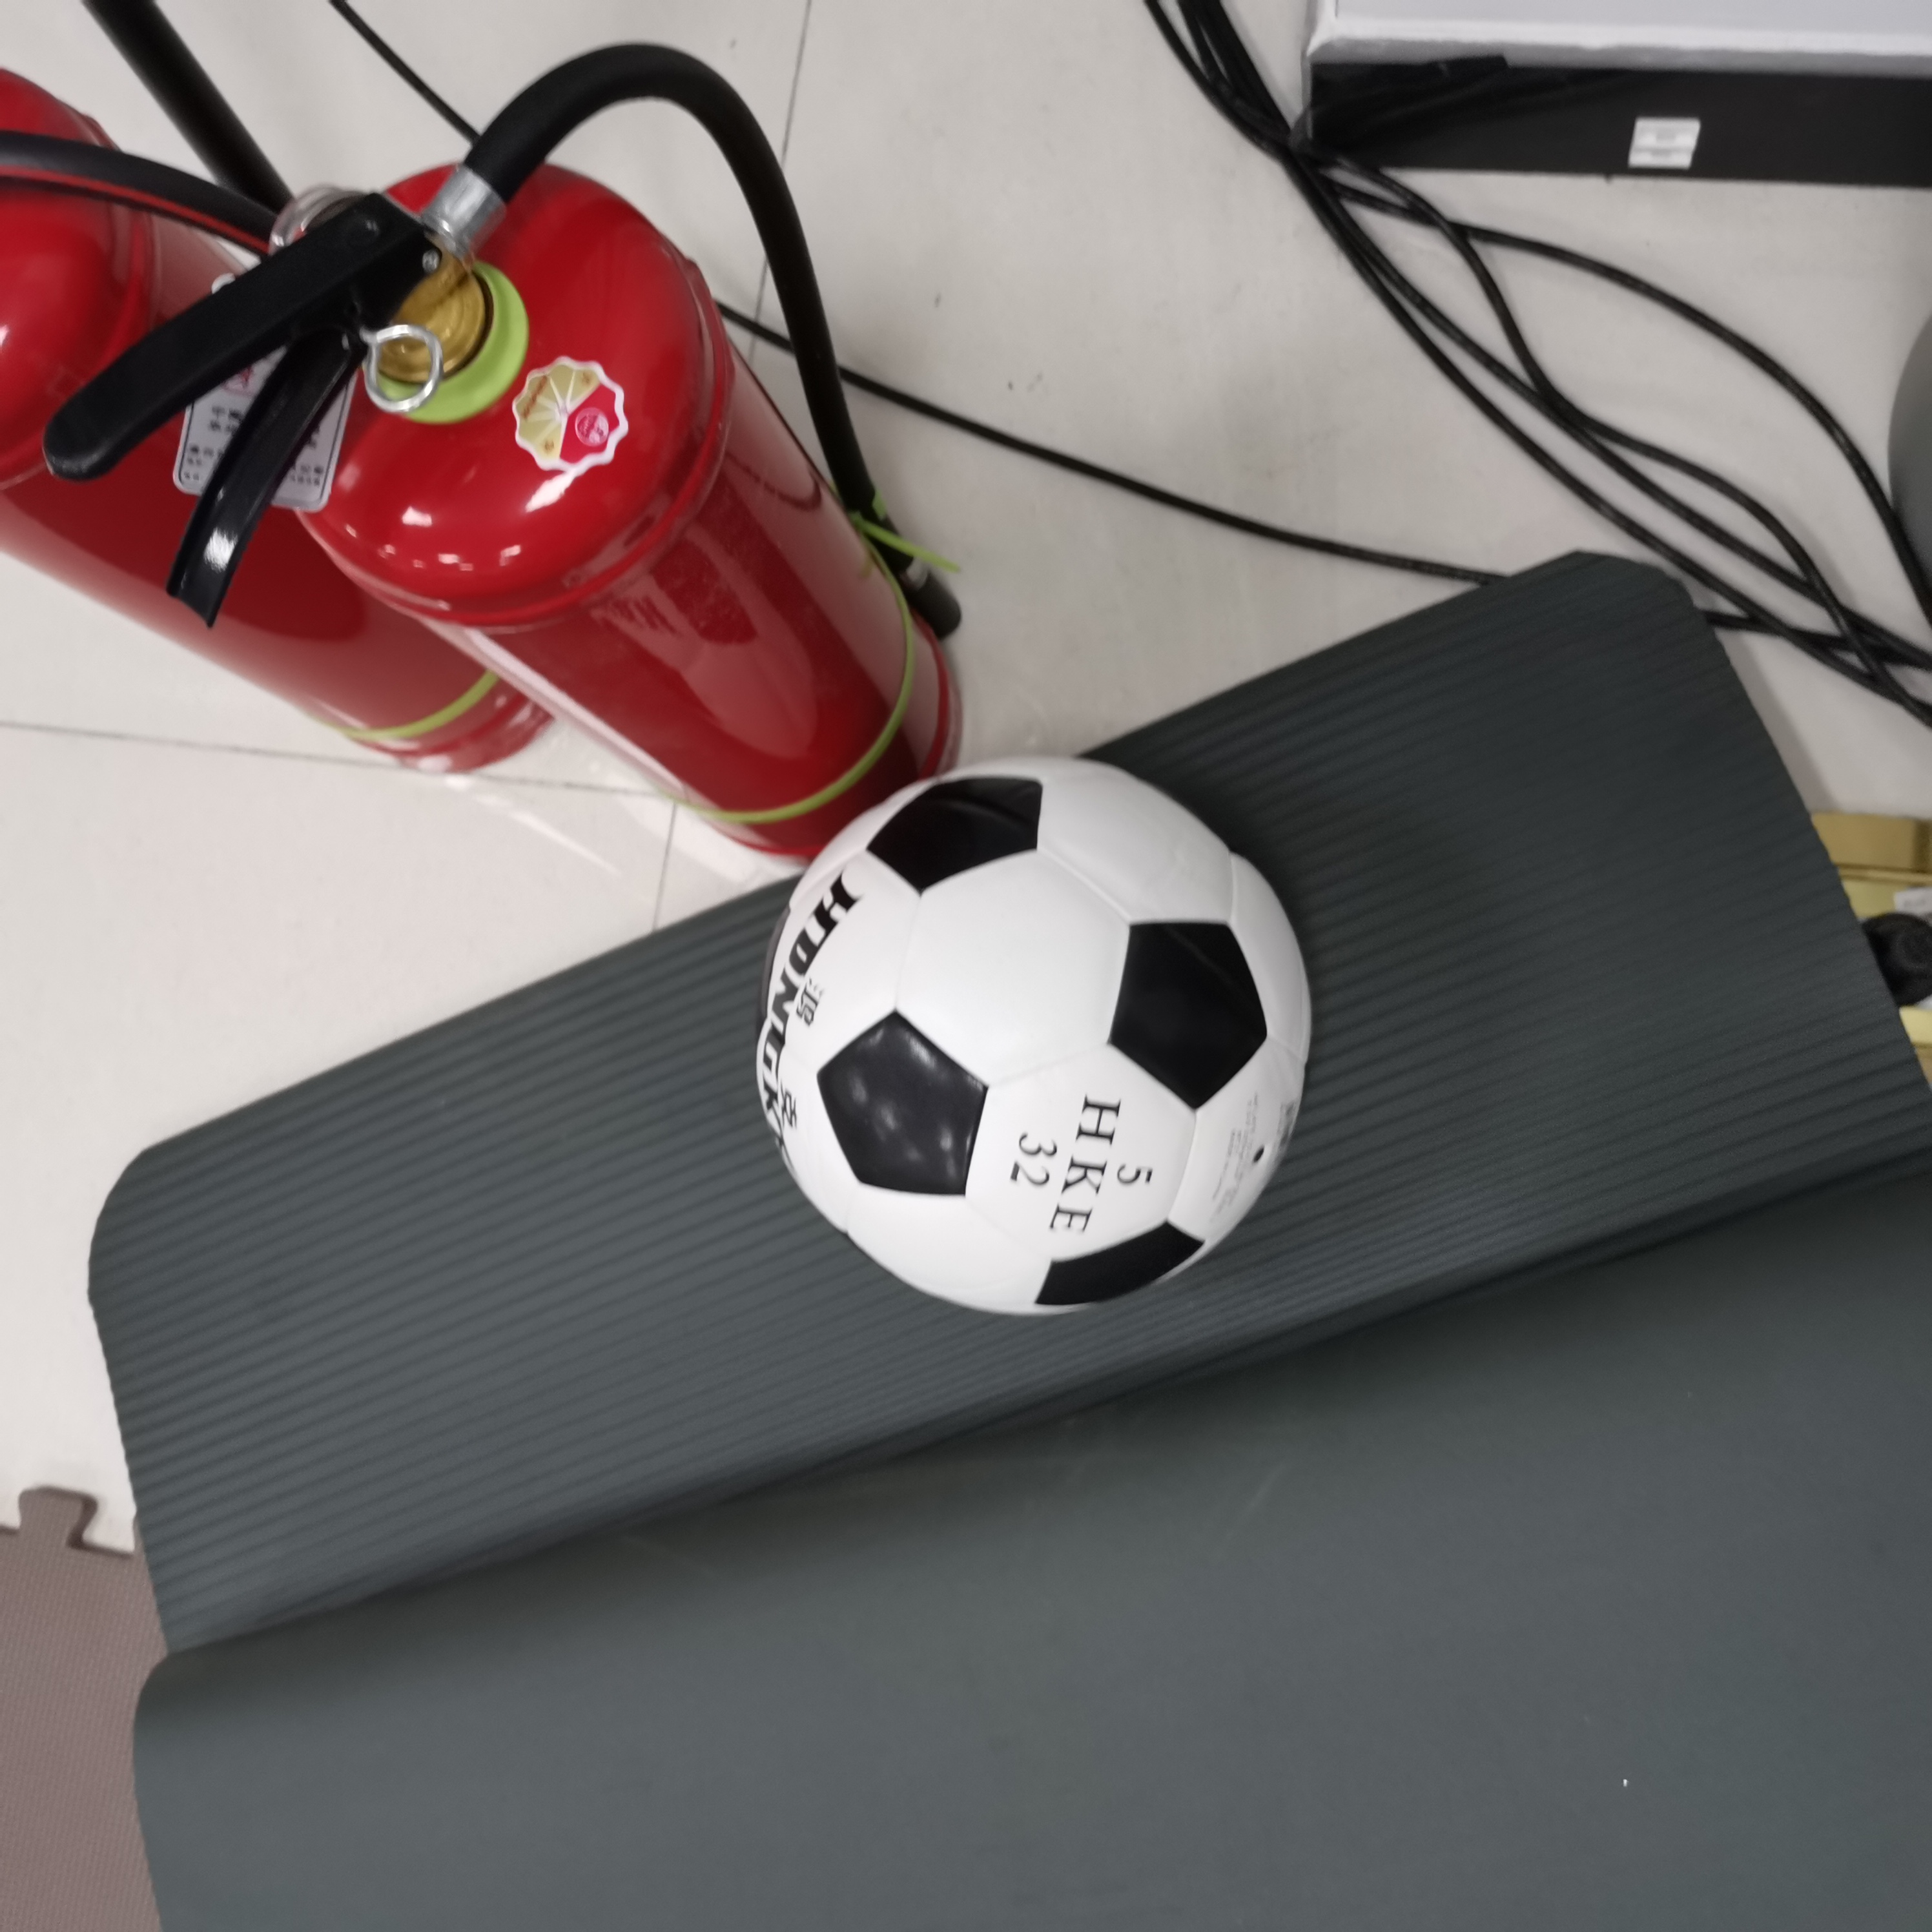football: (763, 755, 1318, 1329)
